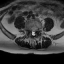CCS_normal: (32, 29, 34, 37)
LFS_severe_stenosis: (36, 29, 37, 33)
LLS_normal: (34, 30, 35, 36)
RFS_severe_stenosis: (29, 28, 31, 32)
RLS_normal: (31, 30, 33, 36)
